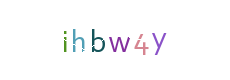4: (94, 0, 174, 80)
B: (72, 0, 152, 80)
H: (47, 0, 127, 80)
I: (41, 0, 121, 80)
W: (75, 0, 155, 80)
Y: (100, 0, 180, 80)
